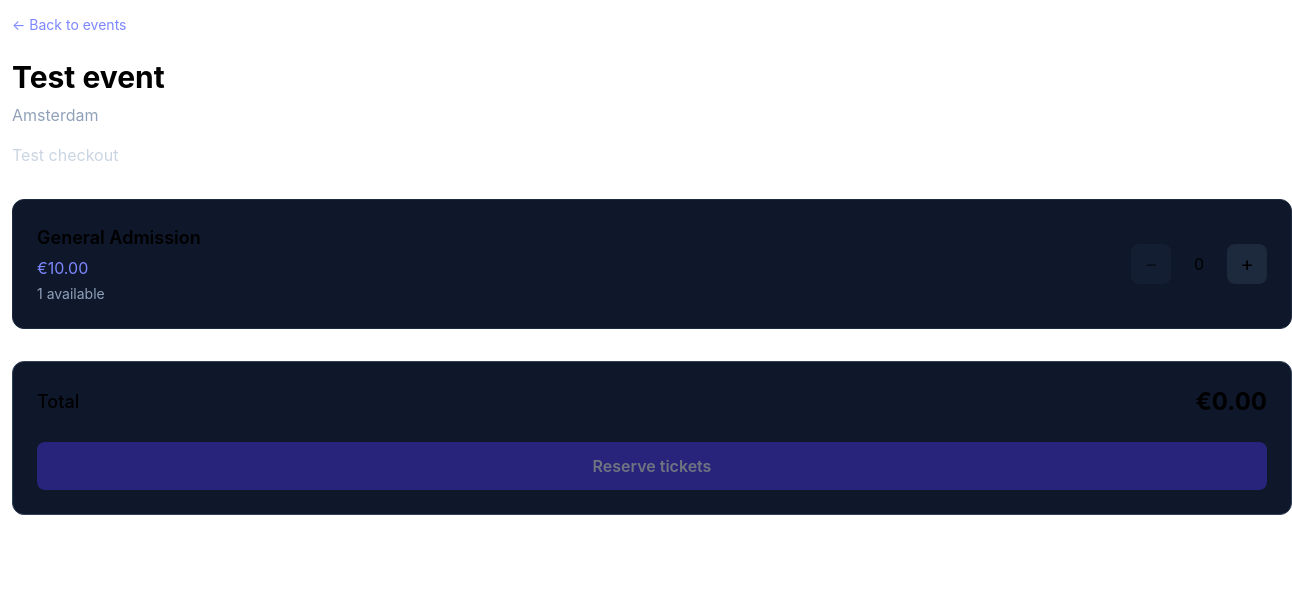
Test case: Checkout recovery › does not let an old checkout refresh overwrite a newer polling response
Click the button "+" at (1247, 264), box [1227, 244, 1267, 284]
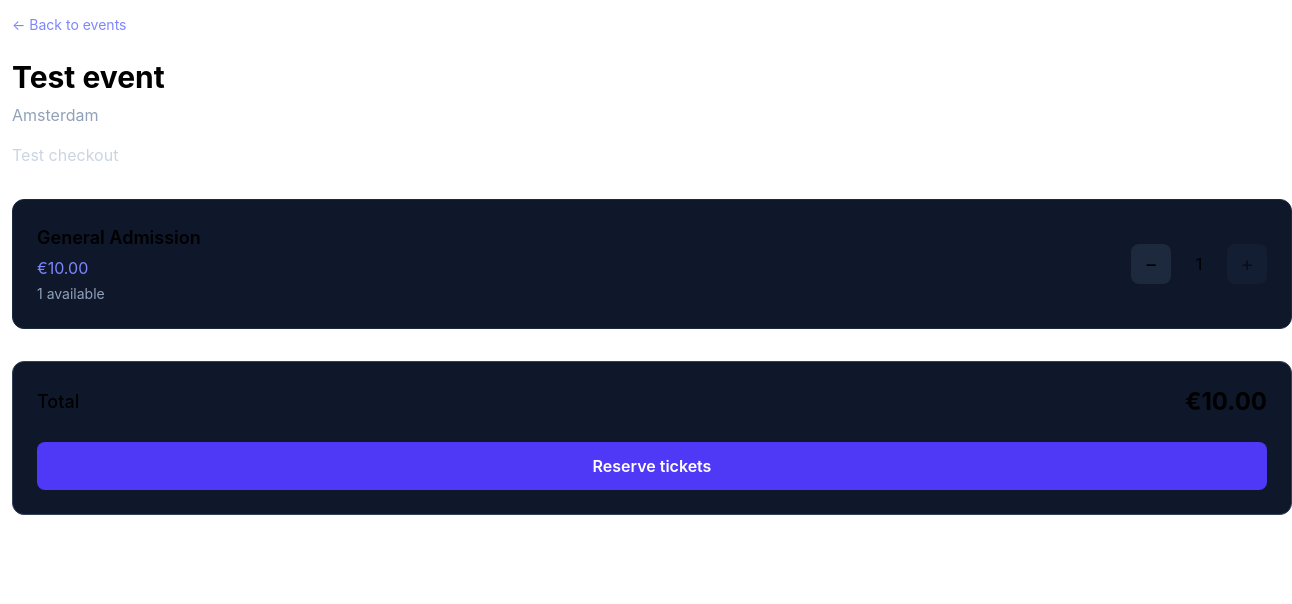
Click the button "Reserve tickets" at (652, 466), box [37, 442, 1267, 490]
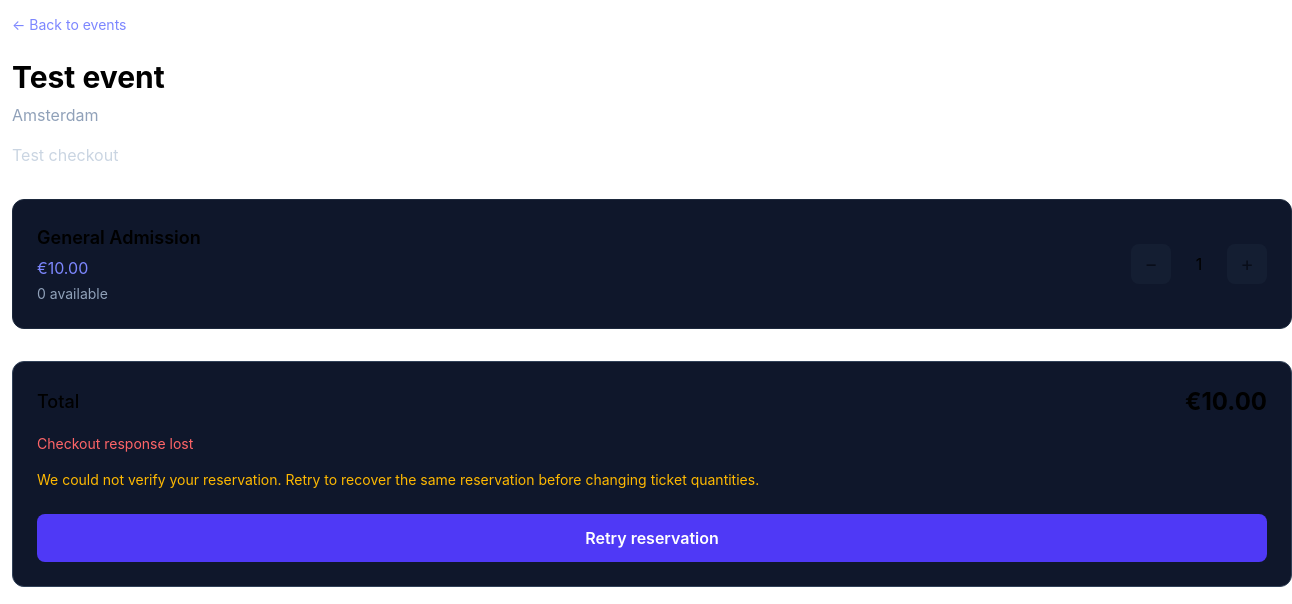
Result: the button "Retry reservation" is enabled at [37, 514, 1267, 562]
Result: the text "0 available" is shown at [37, 285, 108, 302]
